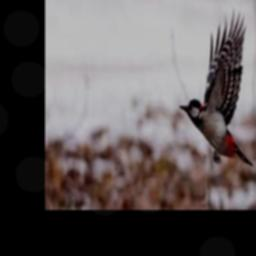Woodpecker: (179, 8, 253, 168)
